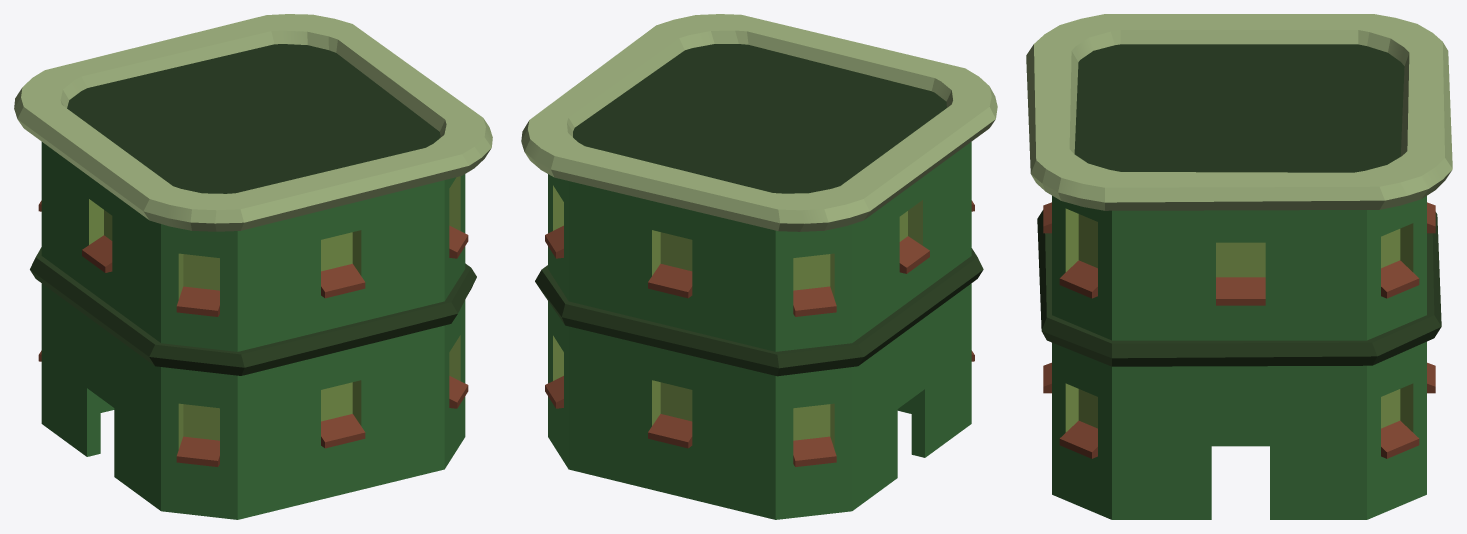
The model's file is Apartment.fbx.
3 renders of one model, left to right at view 1: azimuth 30°, elevation 25°; view 2: azimuth 150°, elevation 25°; view 3: azimuth 270°, elevation 25°, orthographic. The views are drawn at different scales.
Visible parts, largest first — view 1: Apartment; view 2: Apartment; view 3: Apartment.
Part boxes in pixels (box(x1,y1,x2,y2)): Apartment: box(14, 14, 492, 519); Apartment: box(521, 14, 997, 519); Apartment: box(1026, 14, 1452, 519).
Size of the model in its own units: 58.02 by 51 by 58.02.
